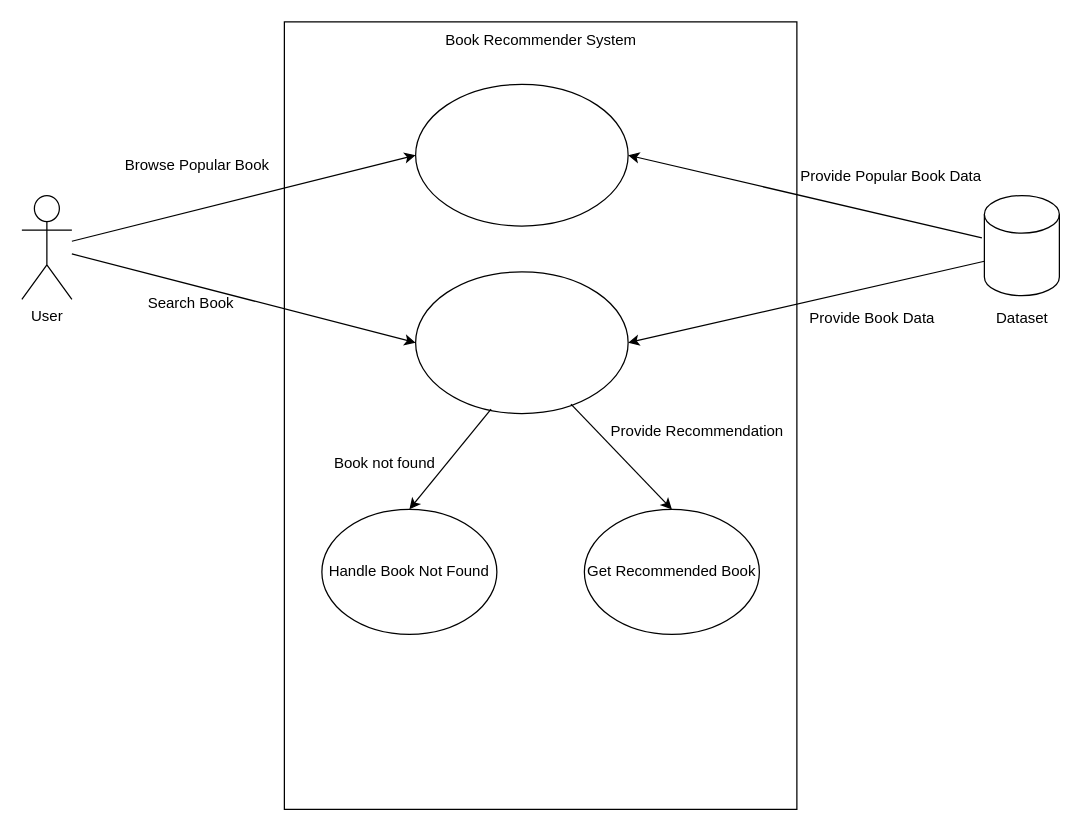
Some shapes in this 1081 by 831 pixel diagram are drawn without their labels. Here are the shapes that lost their labels. From the top down, the centre of each, then its label:
At pixel 521 154: "View Popular Books".
At pixel 521 342: "Search Books".
